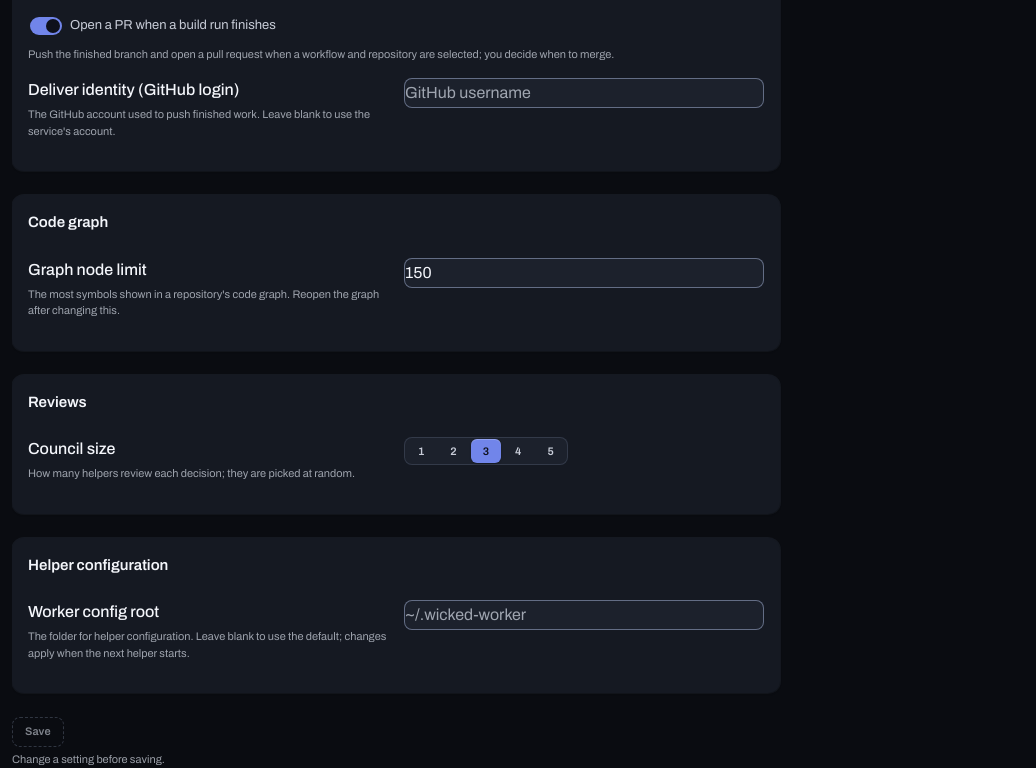
Test: SystemSettings — worker config root › saves through PUT /settings alongside the existing settings path
This screenshot has width=1036, height=768.
(page scrolled)
Type "/abs/workers" into the field named "Worker config root".
click(584, 615); type("/abs/workers")  # box [404,600,764,630]
(page scrolled)
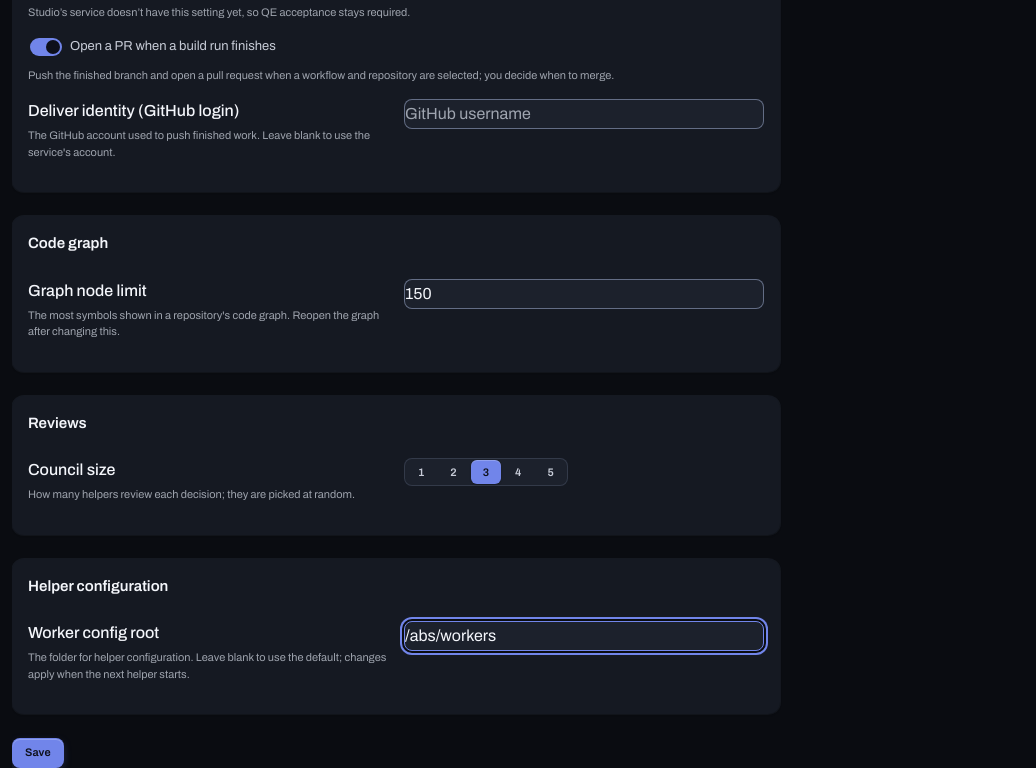
Click the button "Save".
click(38, 753)  # box [12,738,64,767]
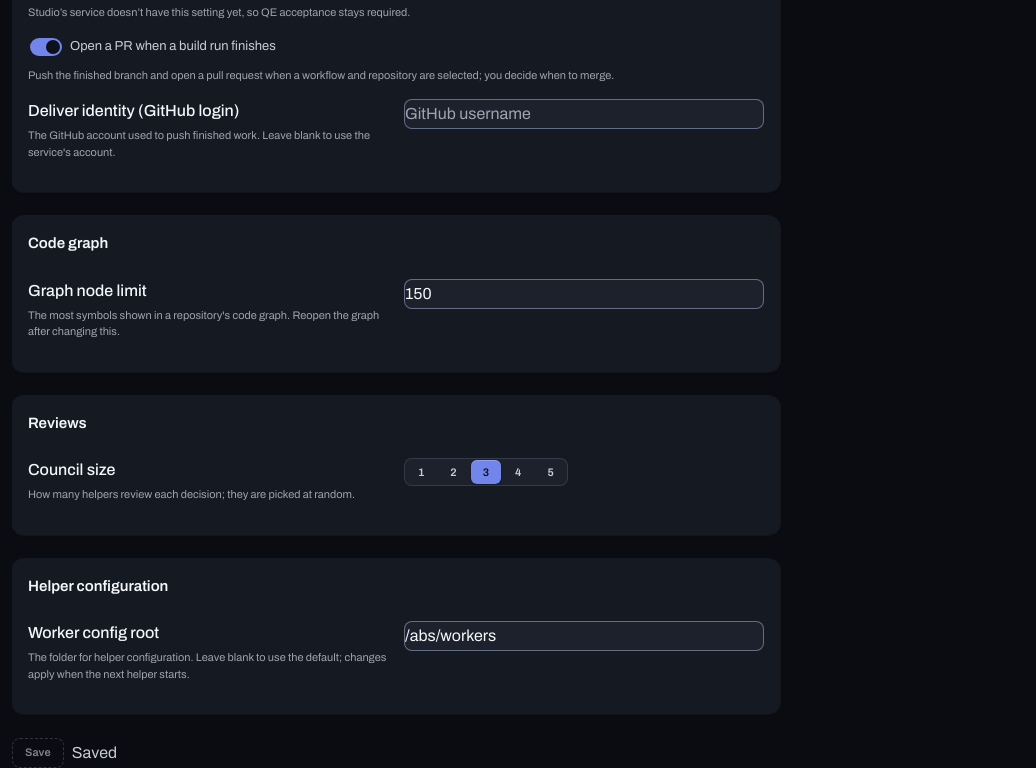
expect the text "Saved" is shown: met, box [72,741,117,765]
